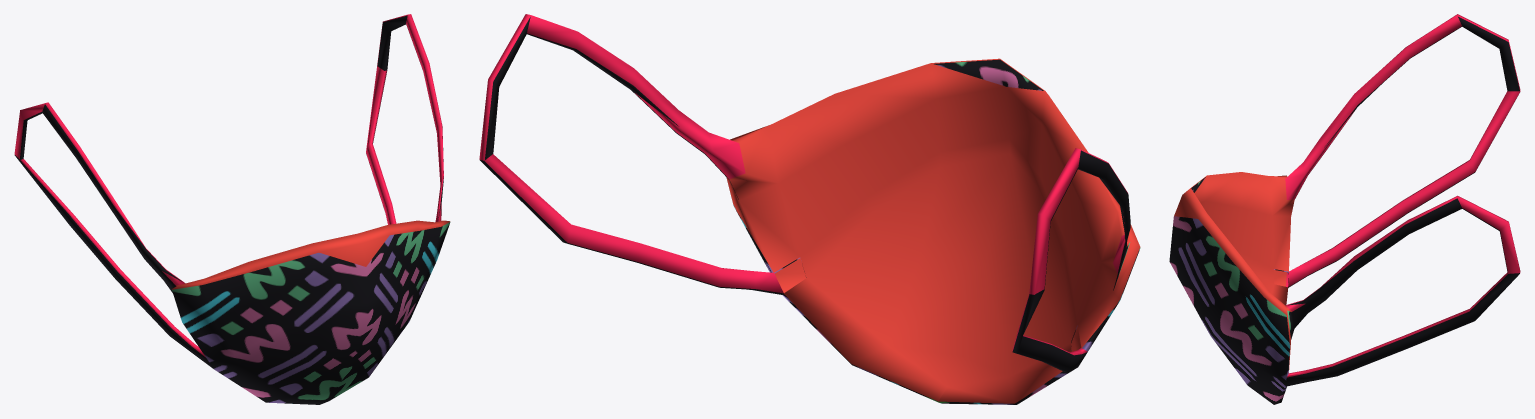
The model's file is protection_mask_african_mask.glb.
3 views of the same model, side by side, from view 1: azimuth 30°, elevation 25°; view 2: azimuth 150°, elevation 25°; view 3: azimuth 270°, elevation 25° (orthographic). The views are drawn at different scales.
Visible parts, largest first — view 1: protection_mask_african_mask, protection_mask_funny_mask; view 2: protection_mask_funny_mask, protection_mask_african_mask; view 3: protection_mask_funny_mask, protection_mask_african_mask.
Part boxes in pixels (<box>): protection_mask_african_mask: <box>14,15,450,404</box>; protection_mask_funny_mask: <box>14,14,450,357</box>; protection_mask_funny_mask: <box>479,14,1140,403</box>; protection_mask_african_mask: <box>480,17,1140,404</box>; protection_mask_funny_mask: <box>1174,14,1520,377</box>; protection_mask_african_mask: <box>1169,16,1519,404</box>.
Size of what is drawn, in the model's own units: 1.05 by 0.7656 by 0.8481.
Materials: 2 (2 with a texture image).
